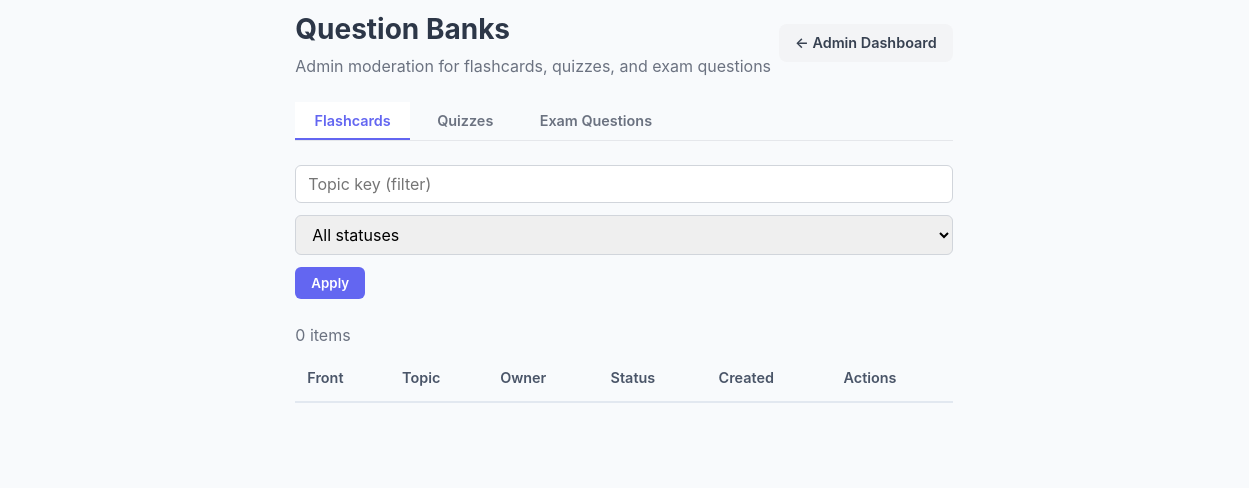
it: AdminQuestionBanksPage Exam Question View link › View link includes exact question ID and not topic-only teacher bank
Switch to Exam Questions tab
What coordinates should you click on to do the following:
click the button "Exam Questions"
I would click on:
 (596, 121)
Its box is [520,102,671,140].
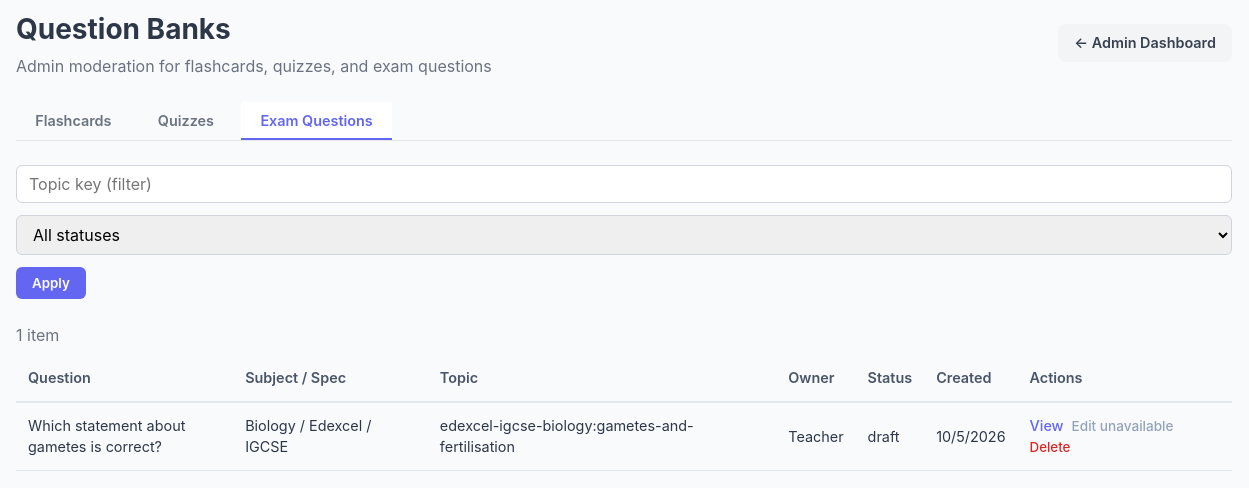
Result: the text with test id "admin-question-banks-exam-edit-unavailable-6a588da077519cb09f0ae653" reads "Edit unavailable" at [1072,418,1174,434]
